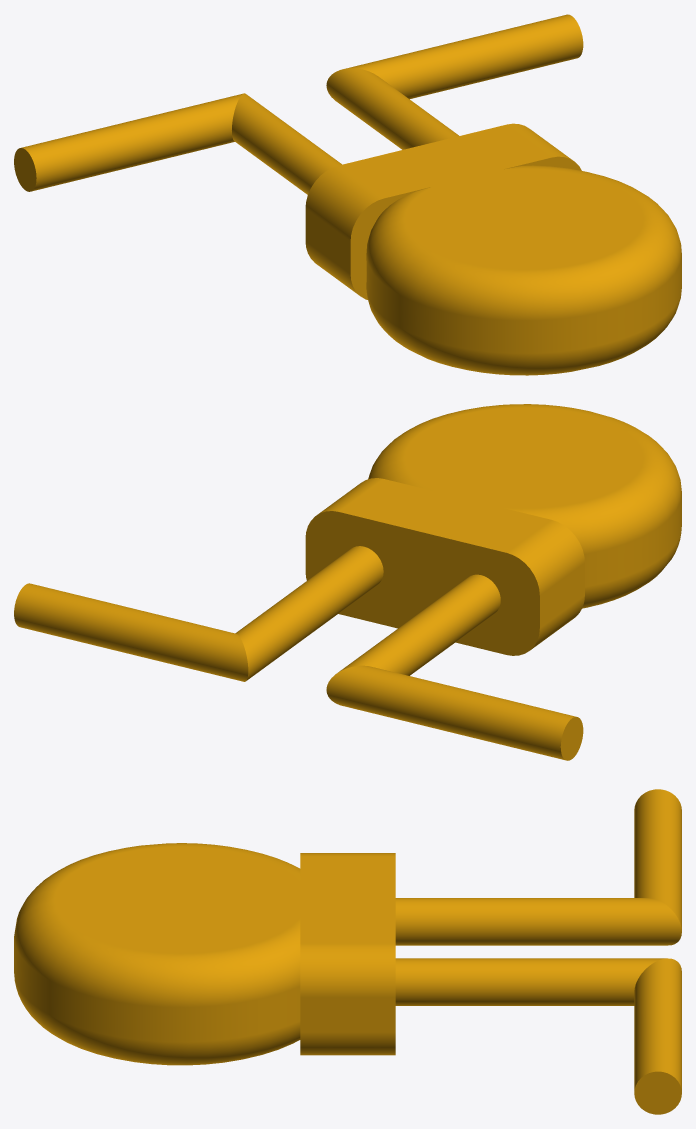
Rendered from Capacitor.fbx.
3 views of the same model, one above another, from view 1: azimuth 30°, elevation 25°; view 2: azimuth 150°, elevation 25°; view 3: azimuth 270°, elevation 25° (orthographic). The views are drawn at different scales.
Parts seen in each view (by area): view 1: Body1; view 2: Body1; view 3: Body1.
Boxes of the visible parts, x1,y1,x2,y2 form: Body1: [14, 14, 681, 375]; Body1: [14, 404, 681, 760]; Body1: [14, 789, 681, 1114].
Size of the model in its own units: 14 by 2.5 by 14.
